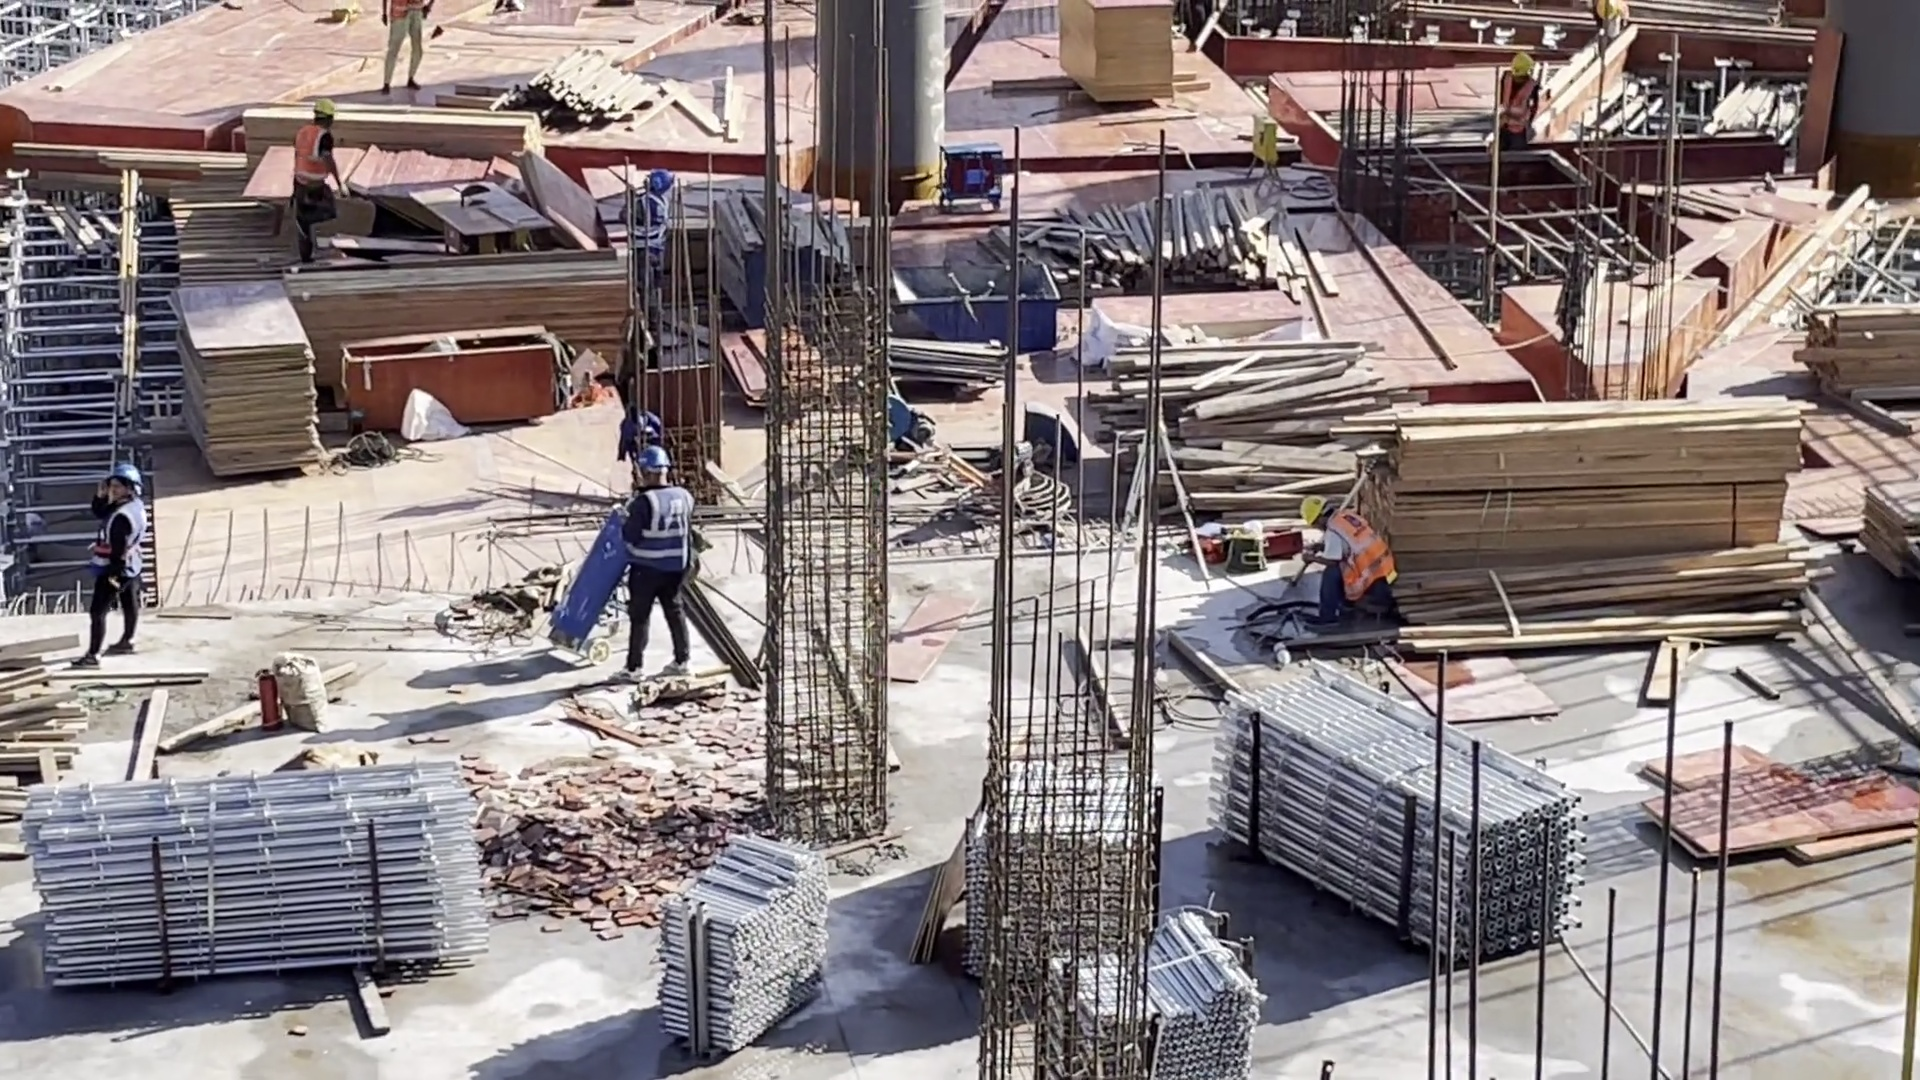helmet: (109, 461, 140, 495), (629, 450, 673, 469), (1303, 499, 1332, 525), (1507, 55, 1533, 81), (310, 94, 336, 117), (644, 169, 673, 187), (1599, 1, 1617, 19)
person: (617, 446, 700, 682), (89, 460, 149, 678), (1301, 495, 1400, 622), (629, 169, 688, 339), (293, 95, 354, 261), (386, 2, 436, 93), (1497, 56, 1545, 139), (1594, 1, 1628, 38)
vest: (1329, 510, 1394, 597), (635, 483, 696, 575), (92, 499, 146, 582), (295, 124, 332, 183), (633, 191, 667, 247), (1504, 86, 1529, 130)
